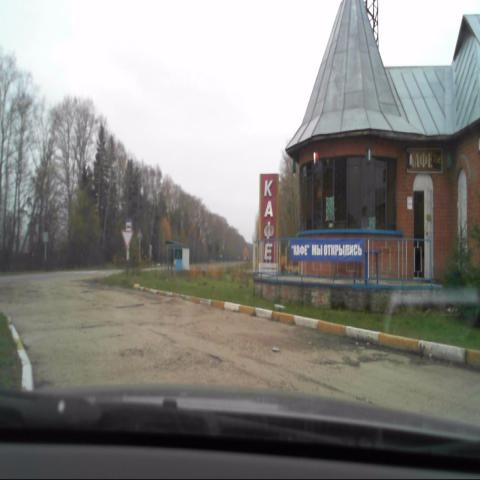2_4: (122, 231, 133, 250)
5_19_1: (135, 227, 143, 242)
